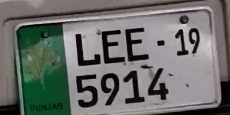LEE5914: (3, 2, 225, 114)
